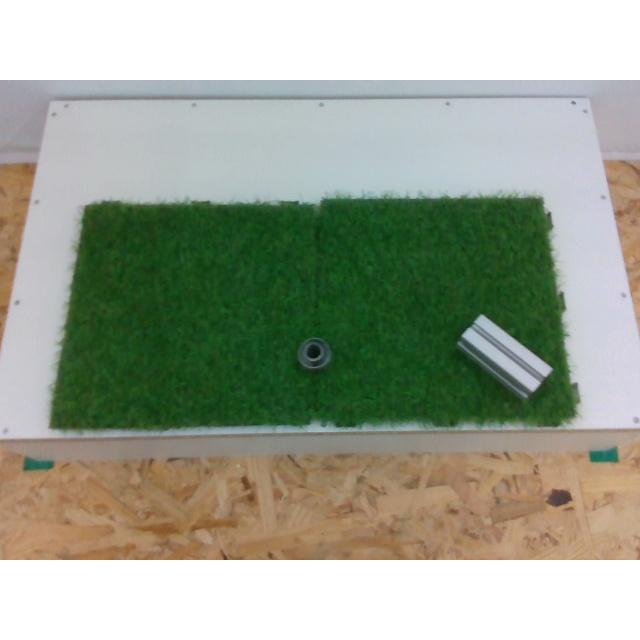Bearing2: (297, 337, 331, 368)
S40_40_G: (458, 314, 552, 394)
